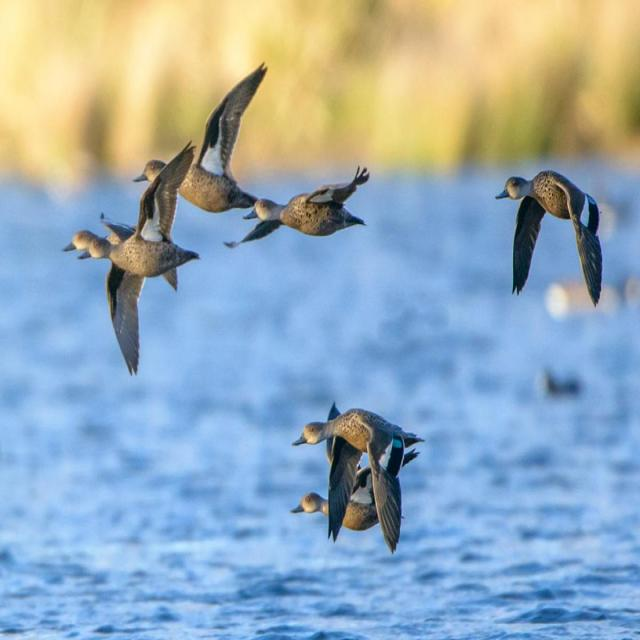bird: (61, 188, 209, 384), (136, 64, 272, 242), (289, 407, 424, 548), (492, 168, 606, 306), (222, 165, 375, 247), (289, 450, 417, 536)
